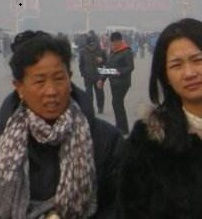person: (4, 29, 111, 219), (118, 19, 202, 219), (106, 31, 138, 135), (79, 34, 108, 117)
